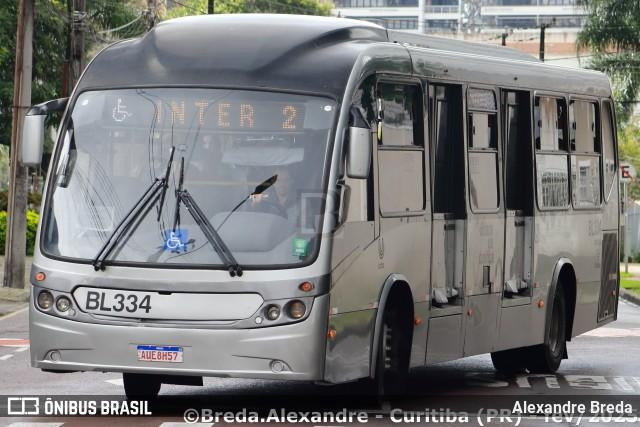INTER2: (149, 94, 305, 133)
